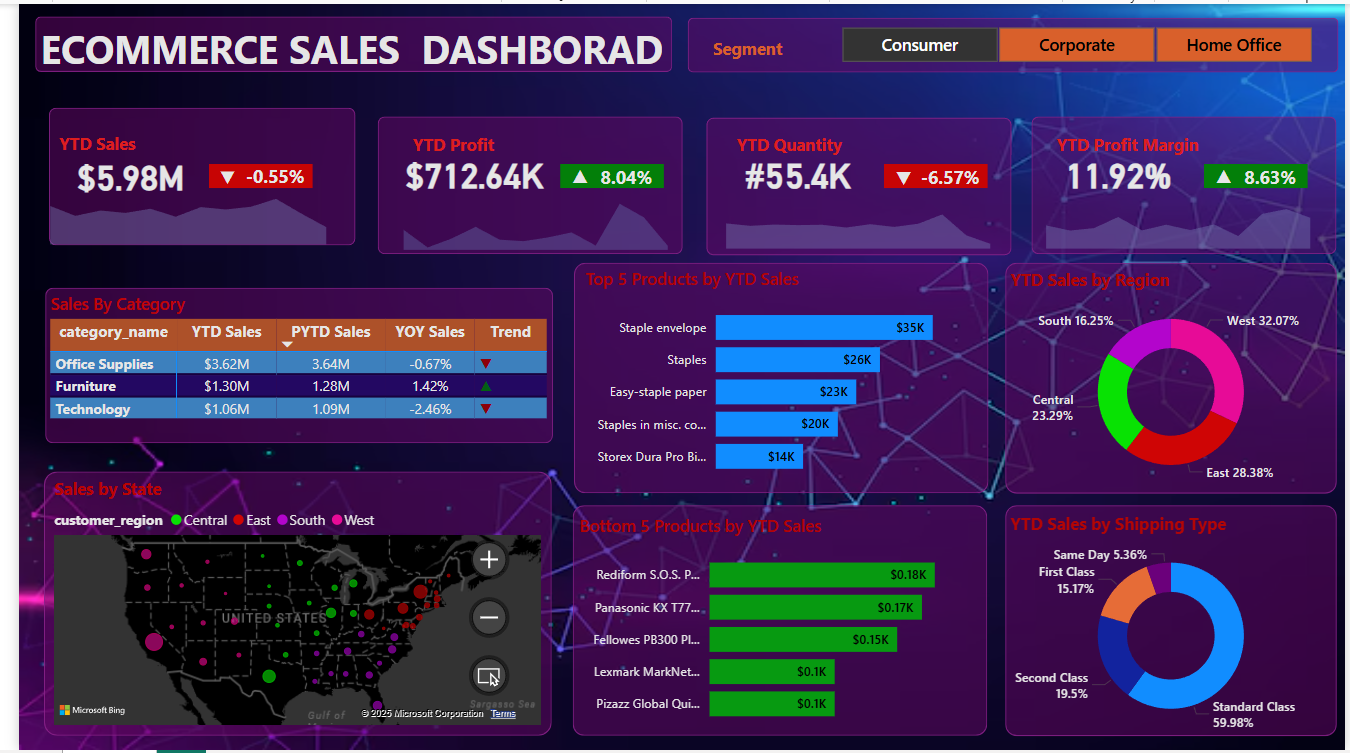

Layout of this report page (visuals, bound fields, positions):
{"tool":"powerbi","page":{"name":"Page 1","canvas":[1280,720],"ordinal":0},"visuals":[{"type":"shape","box":[15.1,12.3,614.8,53.5],"z":0},{"type":"textbox","box":[15.7,12.9,630,62.9],"z":1000},{"type":"shape","box":[28.6,100,295.7,132.9],"z":2000},{"type":"card","fields":{"Values":["ecommerce_data.YTD Sales"]},"box":[34.3,139.7,148.2,51.5],"z":3000},{"type":"areaChart","fields":{"Y":["Sum(ecommerce_data.sales_per_order)"],"Category":["Calendar.Month"]},"box":[15.7,170,295.7,67.1],"z":4000},{"type":"shape","box":[183.4,154.4,100.1,22.9],"z":5000},{"type":"card","fields":{"Values":["ecommerce_data.YOY Sales"]},"box":[211.1,154.4,72.4,27.7],"z":6000},{"type":"card","fields":{"Values":["ecommerce_data.Sales Icon"]},"box":[182.2,154.4,38.6,25.3],"z":7000},{"type":"textbox","box":[34.3,118.6,104.3,41.4],"z":8000},{"type":"shape","box":[345.7,108.6,294.3,132.9],"z":9000},{"type":"card","fields":{"Values":["ecommerce_data.YTD Profit"]},"box":[365.6,137.5,148.4,51.9],"z":10000},{"type":"areaChart","fields":{"Category":["Calendar.Month"],"Y":["Sum(ecommerce_data.profit_per_order)"]},"box":[357.1,176.1,283.5,66.4],"z":11000},{"type":"shape","box":[522.4,154.4,100.1,22.9],"z":12000},{"type":"card","fields":{"Values":["ecommerce_data.YOY Profit"]},"box":[550.1,155.6,72.4,27.7],"z":13000},{"type":"card","fields":{"Values":["ecommerce_data.Profit Icon"]},"box":[522.4,153.2,38.6,26.5],"z":14000},{"type":"textbox","box":[375.2,119.4,96.5,42.2],"z":15000},{"type":"shape","box":[664.1,110.1,294.4,132.7],"z":16000},{"type":"card","fields":{"Values":["ecommerce_data.YTD Concatenated Qty"]},"box":[678.6,137.9,148.4,51.9],"z":17000},{"type":"areaChart","fields":{"Category":["Calendar.Month"],"Y":["Sum(ecommerce_data.order_quantity)"]},"box":[669,175.3,283.5,66.4],"z":18000},{"type":"shape","box":[835.4,154.8,100.1,22.9],"z":19000},{"type":"card","fields":{"Values":["ecommerce_data.YOY Qty"]},"box":[863.2,156,72.4,27.7],"z":20000},{"type":"card","fields":{"Values":["ecommerce_data.Qty Icon"]},"box":[834.9,155.6,38.6,29],"z":21000},{"type":"textbox","box":[687.1,120,147.1,50],"z":22000},{"type":"shape","box":[977.1,108.6,294.3,132.9],"z":23000},{"type":"card","fields":{"Values":["ecommerce_data.YTD Profit Margin"]},"box":[986.5,137.9,148.4,51.9],"z":24000},{"type":"areaChart","fields":{"Category":["Calendar.Month"],"Y":["ecommerce_data.Profit Margin"]},"box":[976.8,175.3,283.5,66.4],"z":25000},{"type":"shape","box":[1144.3,154.3,100,22.9],"z":26000},{"type":"card","fields":{"Values":["ecommerce_data.YOY Profit Margin"]},"box":[1171.1,156,72.4,27.7],"z":27000},{"type":"card","fields":{"Values":["ecommerce_data.Profit Margin Icon"]},"box":[1143.7,153.2,38.6,26.5],"z":28000},{"type":"textbox","box":[996.5,119.4,166.5,42.2],"z":29000},{"type":"shape","box":[25,273.8,490,150],"z":30000},{"type":"pivotTable","title":"Sales By Category","fields":{"Rows":["ecommerce_data.category_name"],"Values":["ecommerce_data.YTD Sales","ecommerce_data.PYTD Sales","ecommerce_data.YOY Sales","ecommerce_data.Trend"]},"box":[25,277.5,490,141.2],"z":31000},{"type":"shape","box":[23.8,451.2,490,255],"z":32000},{"type":"map","title":"Sales by State","fields":{"Y":["us_state_long_lat_codes.latitude"],"X":["us_state_long_lat_codes.longitude"],"Size":["ecommerce_data.YTD Sales"],"Series":["ecommerce_data.customer_region"]},"box":[28.8,456.2,480,245],"z":33000},{"type":"shape","box":[536.2,250,400,222.5],"z":34000},{"type":"shape","box":[535,483.8,400,222.5],"z":35000},{"type":"barChart","title":"Top 5 Products by YTD Sales","fields":{"Category":["ecommerce_data.product_name"],"Y":["ecommerce_data.YTD Sales"]},"box":[541.2,253.8,393.8,213.8],"z":36000},{"type":"barChart","title":"Bottom 5 Products by YTD Sales","fields":{"Category":["ecommerce_data.product_name"],"Y":["ecommerce_data.YTD Sales"]},"box":[536.2,492.5,393.8,213.8],"z":37000},{"type":"shape","box":[951.4,250,320,222.9],"z":38000},{"type":"shape","box":[951.4,484.3,320,222.9],"z":39000},{"type":"donutChart","title":"YTD Sales by Region","fields":{"Category":["ecommerce_data.customer_region"],"Y":["ecommerce_data.YTD Sales"]},"box":[951.4,254.3,320,218.6],"z":40000},{"type":"donutChart","title":"YTD Sales by Shipping Type","fields":{"Y":["ecommerce_data.YTD Sales"],"Category":["ecommerce_data.shipping_type"]},"box":[951.4,490,320,218.6],"z":41000},{"type":"shape","box":[645.7,12.9,628,52.9],"z":42000},{"type":"slicer","fields":{"Values":["ecommerce_data.customer_segment"]},"box":[768.6,15.7,502.9,47.1],"z":43000},{"type":"textbox","box":[664.3,27.1,112.9,38.6],"z":43001}]}

Visuals, with their boxes in screenshot pixels (x1, y1, x2, y2), scaled from the page's 1280x720 canvas onto the 1350x753 screenshot:
shape: (x1=16, y1=13, x2=664, y2=69)
textbox: (x1=17, y1=13, x2=681, y2=79)
shape: (x1=30, y1=105, x2=342, y2=244)
card - ecommerce_data.YTD Sales: (x1=36, y1=146, x2=192, y2=200)
areaChart - Sum(ecommerce_data.sales_per_order) x Calendar.Month: (x1=17, y1=178, x2=328, y2=248)
shape: (x1=193, y1=161, x2=299, y2=185)
card - ecommerce_data.YOY Sales: (x1=223, y1=161, x2=299, y2=190)
card - ecommerce_data.Sales Icon: (x1=192, y1=161, x2=233, y2=188)
textbox: (x1=36, y1=124, x2=146, y2=167)
shape: (x1=365, y1=114, x2=675, y2=253)
card - ecommerce_data.YTD Profit: (x1=386, y1=144, x2=542, y2=198)
areaChart - Calendar.Month x Sum(ecommerce_data.profit_per_order): (x1=377, y1=184, x2=676, y2=254)
shape: (x1=551, y1=161, x2=657, y2=185)
card - ecommerce_data.YOY Profit: (x1=580, y1=163, x2=657, y2=192)
card - ecommerce_data.Profit Icon: (x1=551, y1=160, x2=592, y2=188)
textbox: (x1=396, y1=125, x2=497, y2=169)
shape: (x1=700, y1=115, x2=1011, y2=254)
card - ecommerce_data.YTD Concatenated Qty: (x1=716, y1=144, x2=872, y2=198)
areaChart - Calendar.Month x Sum(ecommerce_data.order_quantity): (x1=706, y1=183, x2=1005, y2=253)
shape: (x1=881, y1=162, x2=987, y2=186)
card - ecommerce_data.YOY Qty: (x1=910, y1=163, x2=987, y2=192)
card - ecommerce_data.Qty Icon: (x1=881, y1=163, x2=921, y2=193)
textbox: (x1=725, y1=126, x2=880, y2=178)
shape: (x1=1031, y1=114, x2=1341, y2=253)
card - ecommerce_data.YTD Profit Margin: (x1=1040, y1=144, x2=1197, y2=198)
areaChart - Calendar.Month x ecommerce_data.Profit Margin: (x1=1030, y1=183, x2=1329, y2=253)
shape: (x1=1207, y1=161, x2=1312, y2=185)
card - ecommerce_data.YOY Profit Margin: (x1=1235, y1=163, x2=1312, y2=192)
card - ecommerce_data.Profit Margin Icon: (x1=1206, y1=160, x2=1247, y2=188)
textbox: (x1=1051, y1=125, x2=1227, y2=169)
shape: (x1=26, y1=286, x2=543, y2=443)
"Sales By Category" pivotTable: (x1=26, y1=290, x2=543, y2=438)
shape: (x1=25, y1=472, x2=542, y2=739)
"Sales by State" map: (x1=30, y1=477, x2=537, y2=733)
shape: (x1=566, y1=261, x2=987, y2=494)
shape: (x1=564, y1=506, x2=986, y2=739)
"Top 5 Products by YTD Sales" barChart: (x1=571, y1=265, x2=986, y2=489)
"Bottom 5 Products by YTD Sales" barChart: (x1=566, y1=515, x2=981, y2=739)
shape: (x1=1003, y1=261, x2=1341, y2=495)
shape: (x1=1003, y1=506, x2=1341, y2=740)
"YTD Sales by Region" donutChart: (x1=1003, y1=266, x2=1341, y2=495)
"YTD Sales by Shipping Type" donutChart: (x1=1003, y1=512, x2=1341, y2=741)
shape: (x1=681, y1=13, x2=1343, y2=69)
slicer - ecommerce_data.customer_segment: (x1=811, y1=16, x2=1341, y2=66)
textbox: (x1=701, y1=28, x2=820, y2=69)
